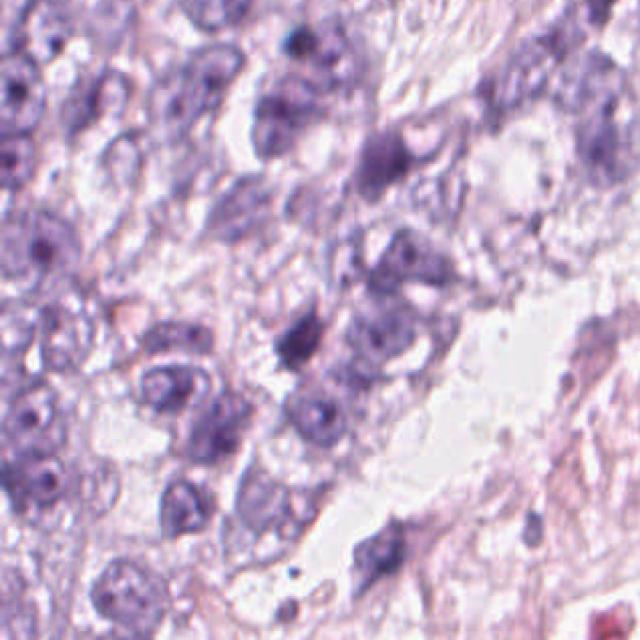tumor: (471, 12, 577, 125), (270, 2, 372, 104), (166, 381, 266, 464), (338, 116, 429, 205), (359, 220, 463, 296), (49, 48, 128, 145), (339, 506, 429, 591), (88, 557, 175, 640), (569, 93, 638, 194), (6, 441, 91, 518), (127, 342, 226, 407), (119, 309, 210, 376), (0, 215, 81, 289), (138, 56, 205, 145), (343, 294, 421, 368), (271, 379, 362, 441), (200, 166, 271, 243), (149, 460, 216, 541), (32, 291, 93, 377), (179, 35, 244, 111), (268, 294, 325, 376), (546, 62, 635, 113), (278, 178, 325, 231)
